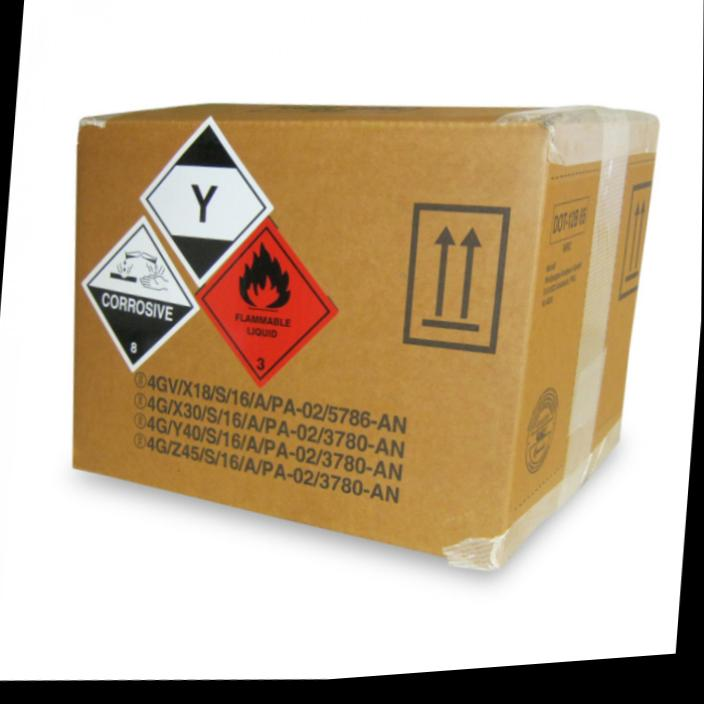can and bottle trash cans: (196, 218, 335, 385)
elevator buttons: (82, 217, 195, 369)
